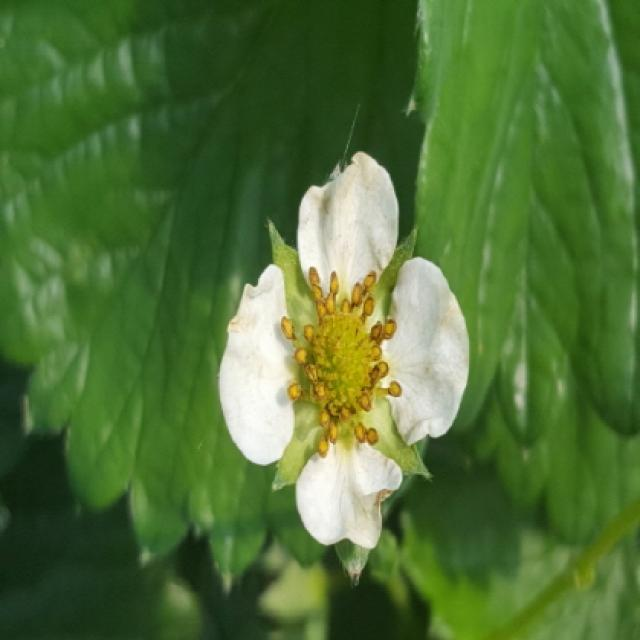Blossom Blight: (276, 263, 409, 460)
